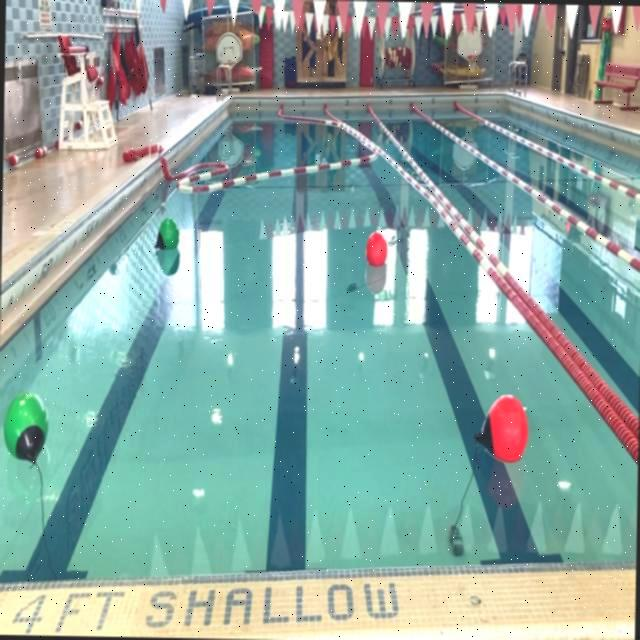buoy: (476, 392, 529, 462), (2, 387, 47, 465), (155, 214, 179, 253), (366, 228, 388, 266)
